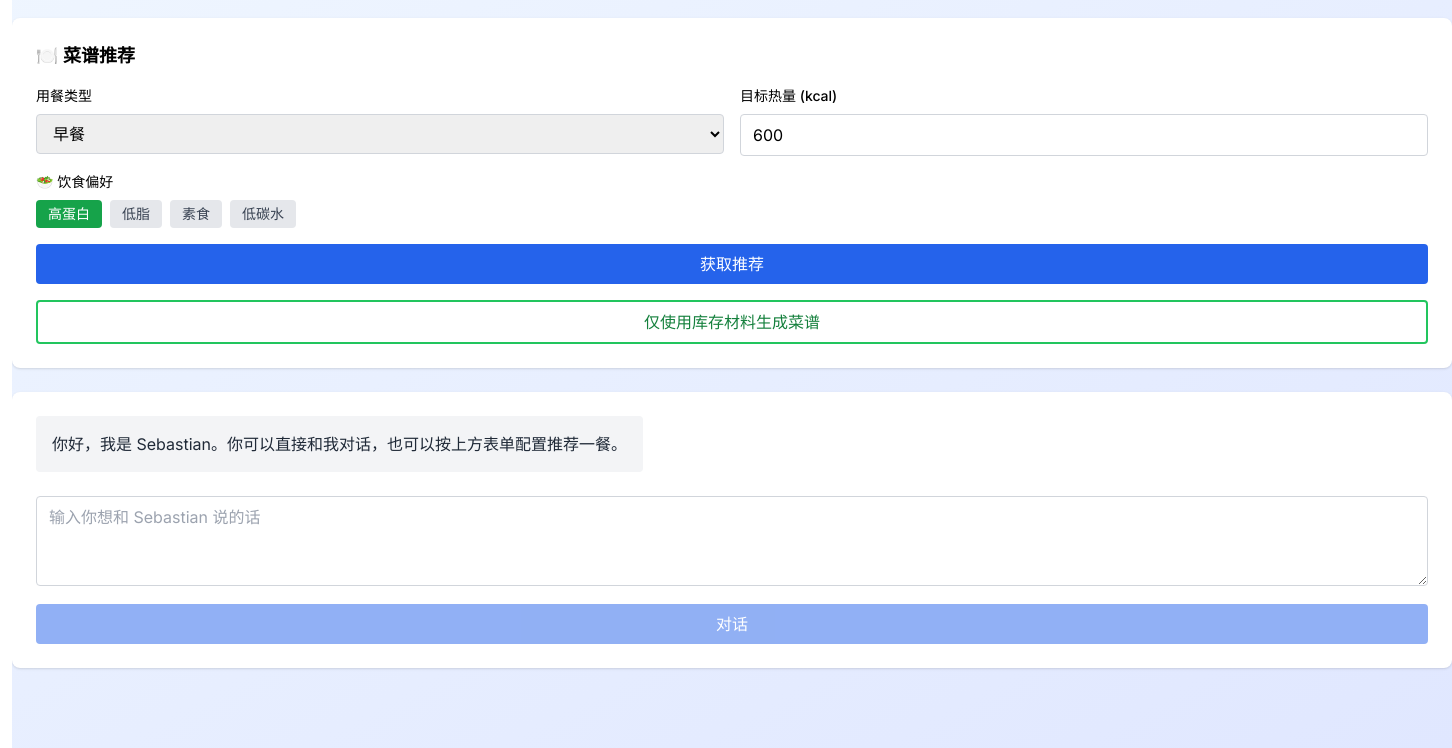
ConversationPage — 确认制作 › D3. 确认制作成功后显示反馈
The width and height of the screenshot is (1452, 748).
Click the button "获取推荐". click: (732, 264)
box: [36,244,1428,284]
(page scrolled)
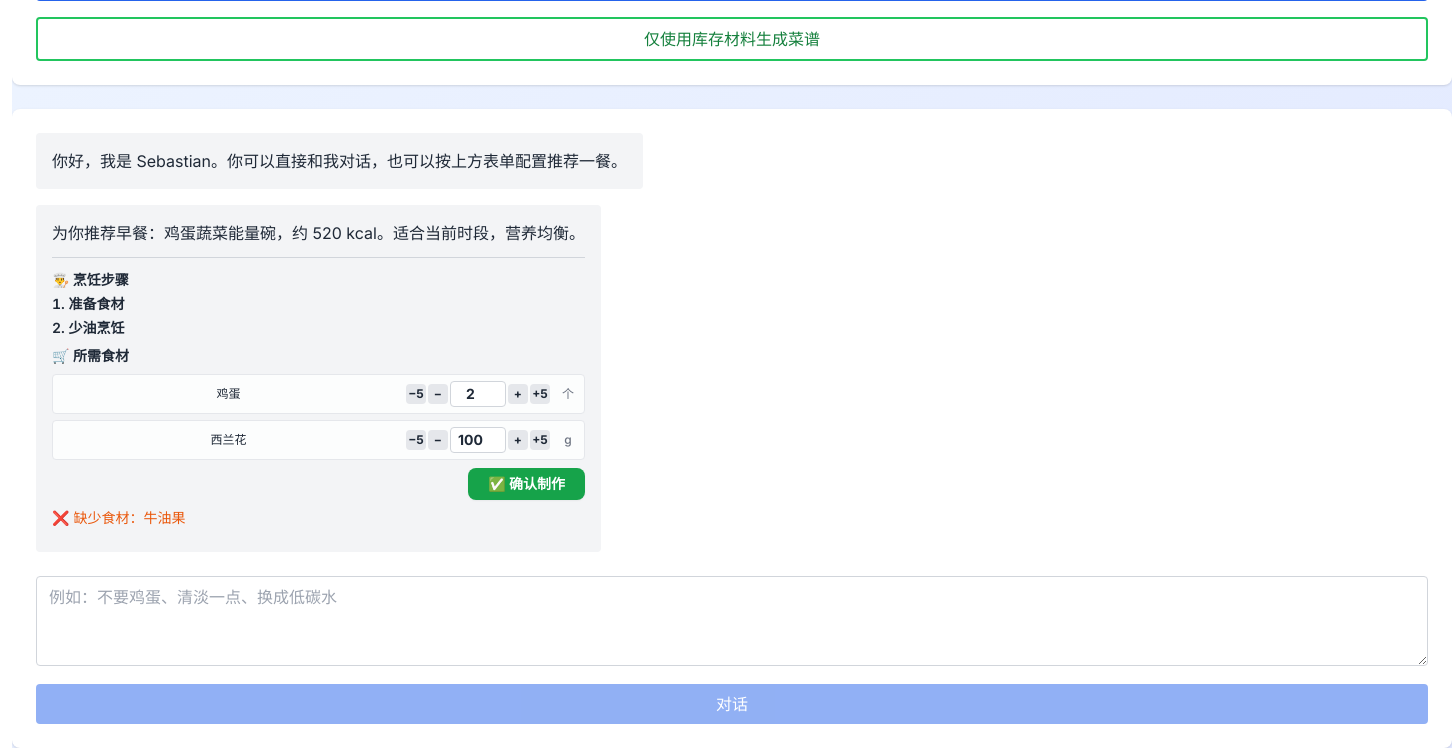
Expected: the button "✅ 确认制作" is shown
Click the button "✅ 确认制作". click: (526, 484)
box: [468,468,585,500]
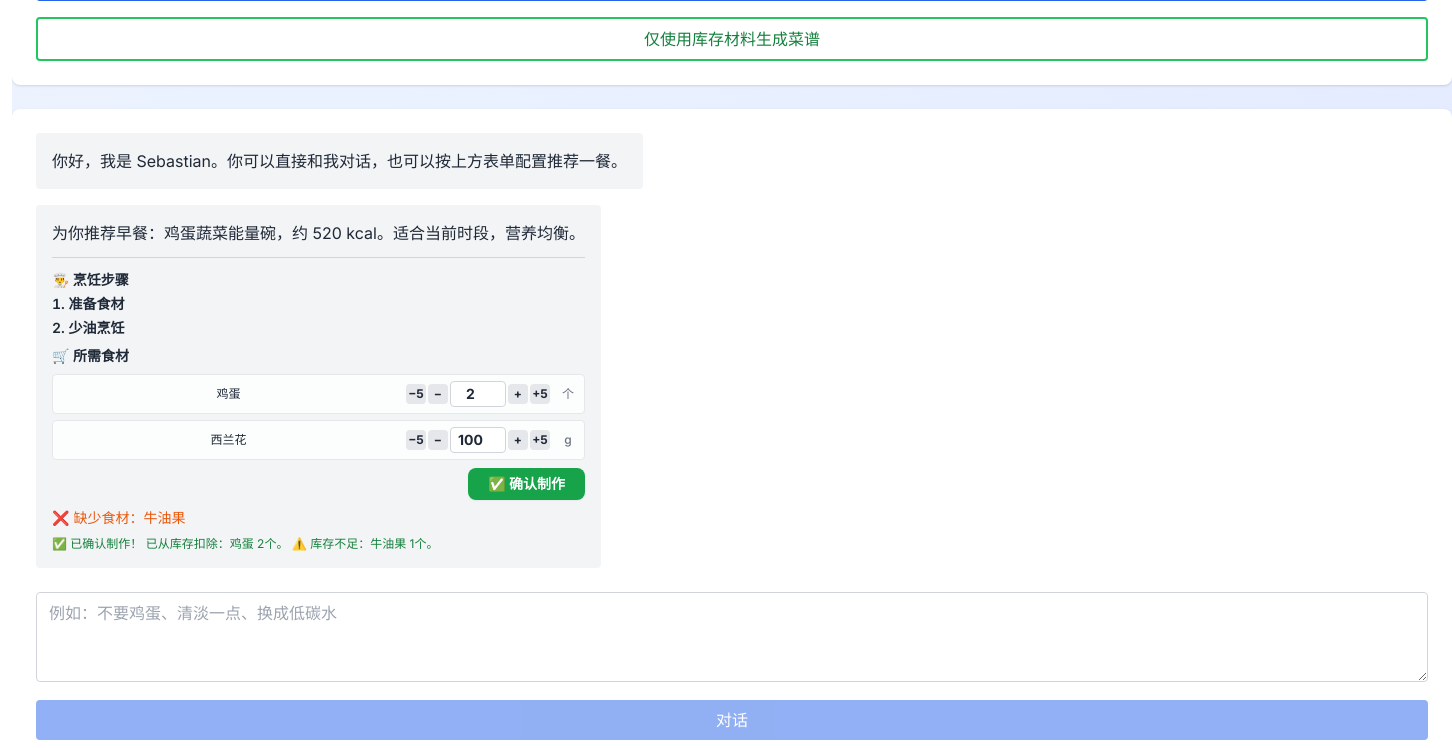
Expected: the text "✅ 已确认制作！ 已从库存扣除：鸡蛋 2个。 ⚠️ 库存不足：牛油果 1个。" is shown, [52,536,438,551]
